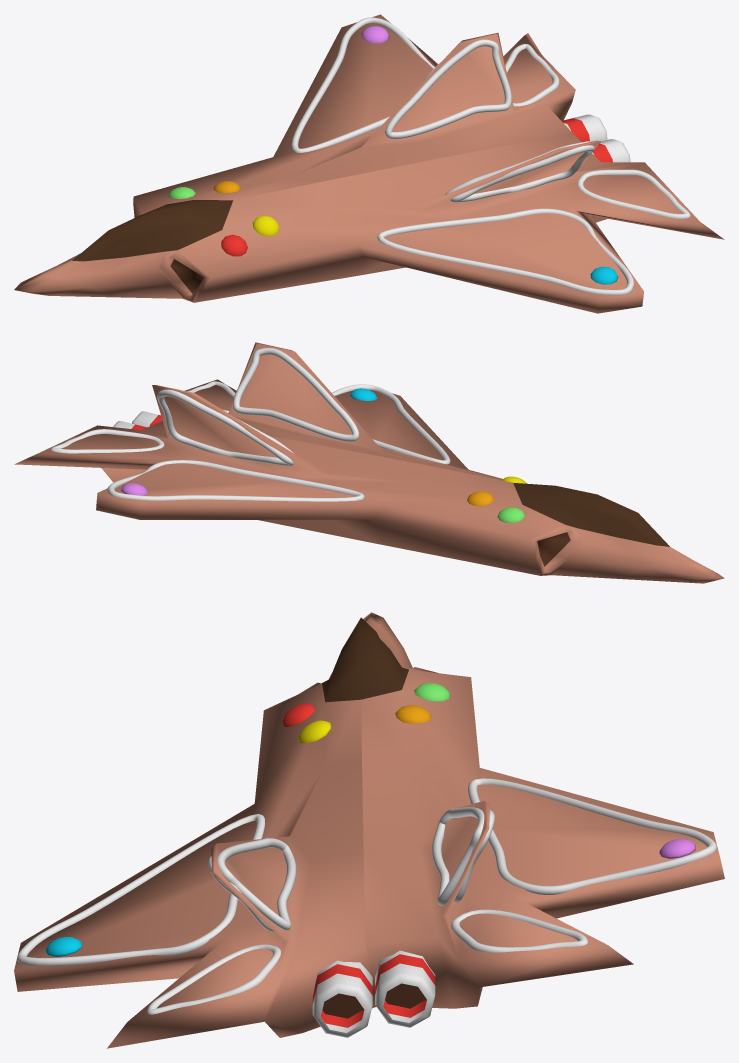
File: planetop.glb
3 renders of one model, top to bottom at view 1: azimuth 30°, elevation 25°; view 2: azimuth 150°, elevation 25°; view 3: azimuth 270°, elevation 25°, orthographic. The views are drawn at different scales.
Parts seen in each view (by area): view 1: Plane.006; view 2: Plane.006; view 3: Plane.006.
Part boxes in pixels (box(x1,y1,x2,y2)): Plane.006: box(14, 14, 724, 313); Plane.006: box(14, 342, 724, 583); Plane.006: box(14, 612, 724, 1048).
Bounding box in the file's own units: 5.96 × 1.29 × 4.48.
